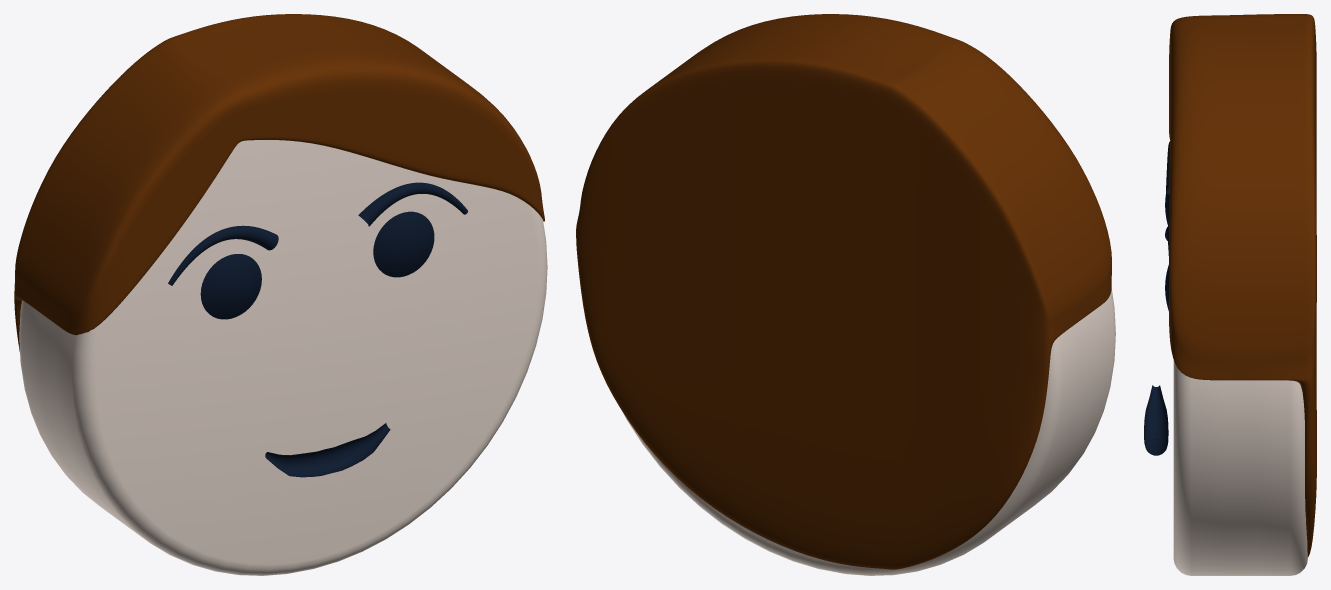
File: head2.dae
3 renders of one model, left to right at view 1: azimuth 30°, elevation 25°; view 2: azimuth 150°, elevation 25°; view 3: azimuth 270°, elevation 25°, orthographic. The views are drawn at different scales.
Parts seen in each view (by area): view 1: head, maleHair, leftEye, RightEye, Mouth, RightBrow, LeftBrow; view 2: maleHair, head; view 3: maleHair, head, Mouth.
Boxes of the visible parts, box(x1,y1,x2,y2) form: head: box(19, 140, 547, 575); maleHair: box(14, 14, 544, 351); leftEye: box(373, 211, 434, 277); RightEye: box(200, 254, 261, 319); Mouth: box(265, 423, 390, 477); RightBrow: box(168, 225, 278, 285); LeftBrow: box(358, 182, 467, 226); maleHair: box(576, 14, 1111, 569); head: box(622, 289, 1115, 575); maleHair: box(1169, 14, 1316, 556); head: box(1173, 360, 1307, 575); Mouth: box(1144, 385, 1168, 455).
Bounding box in the file's own units: 120 × 123 × 38.56.
